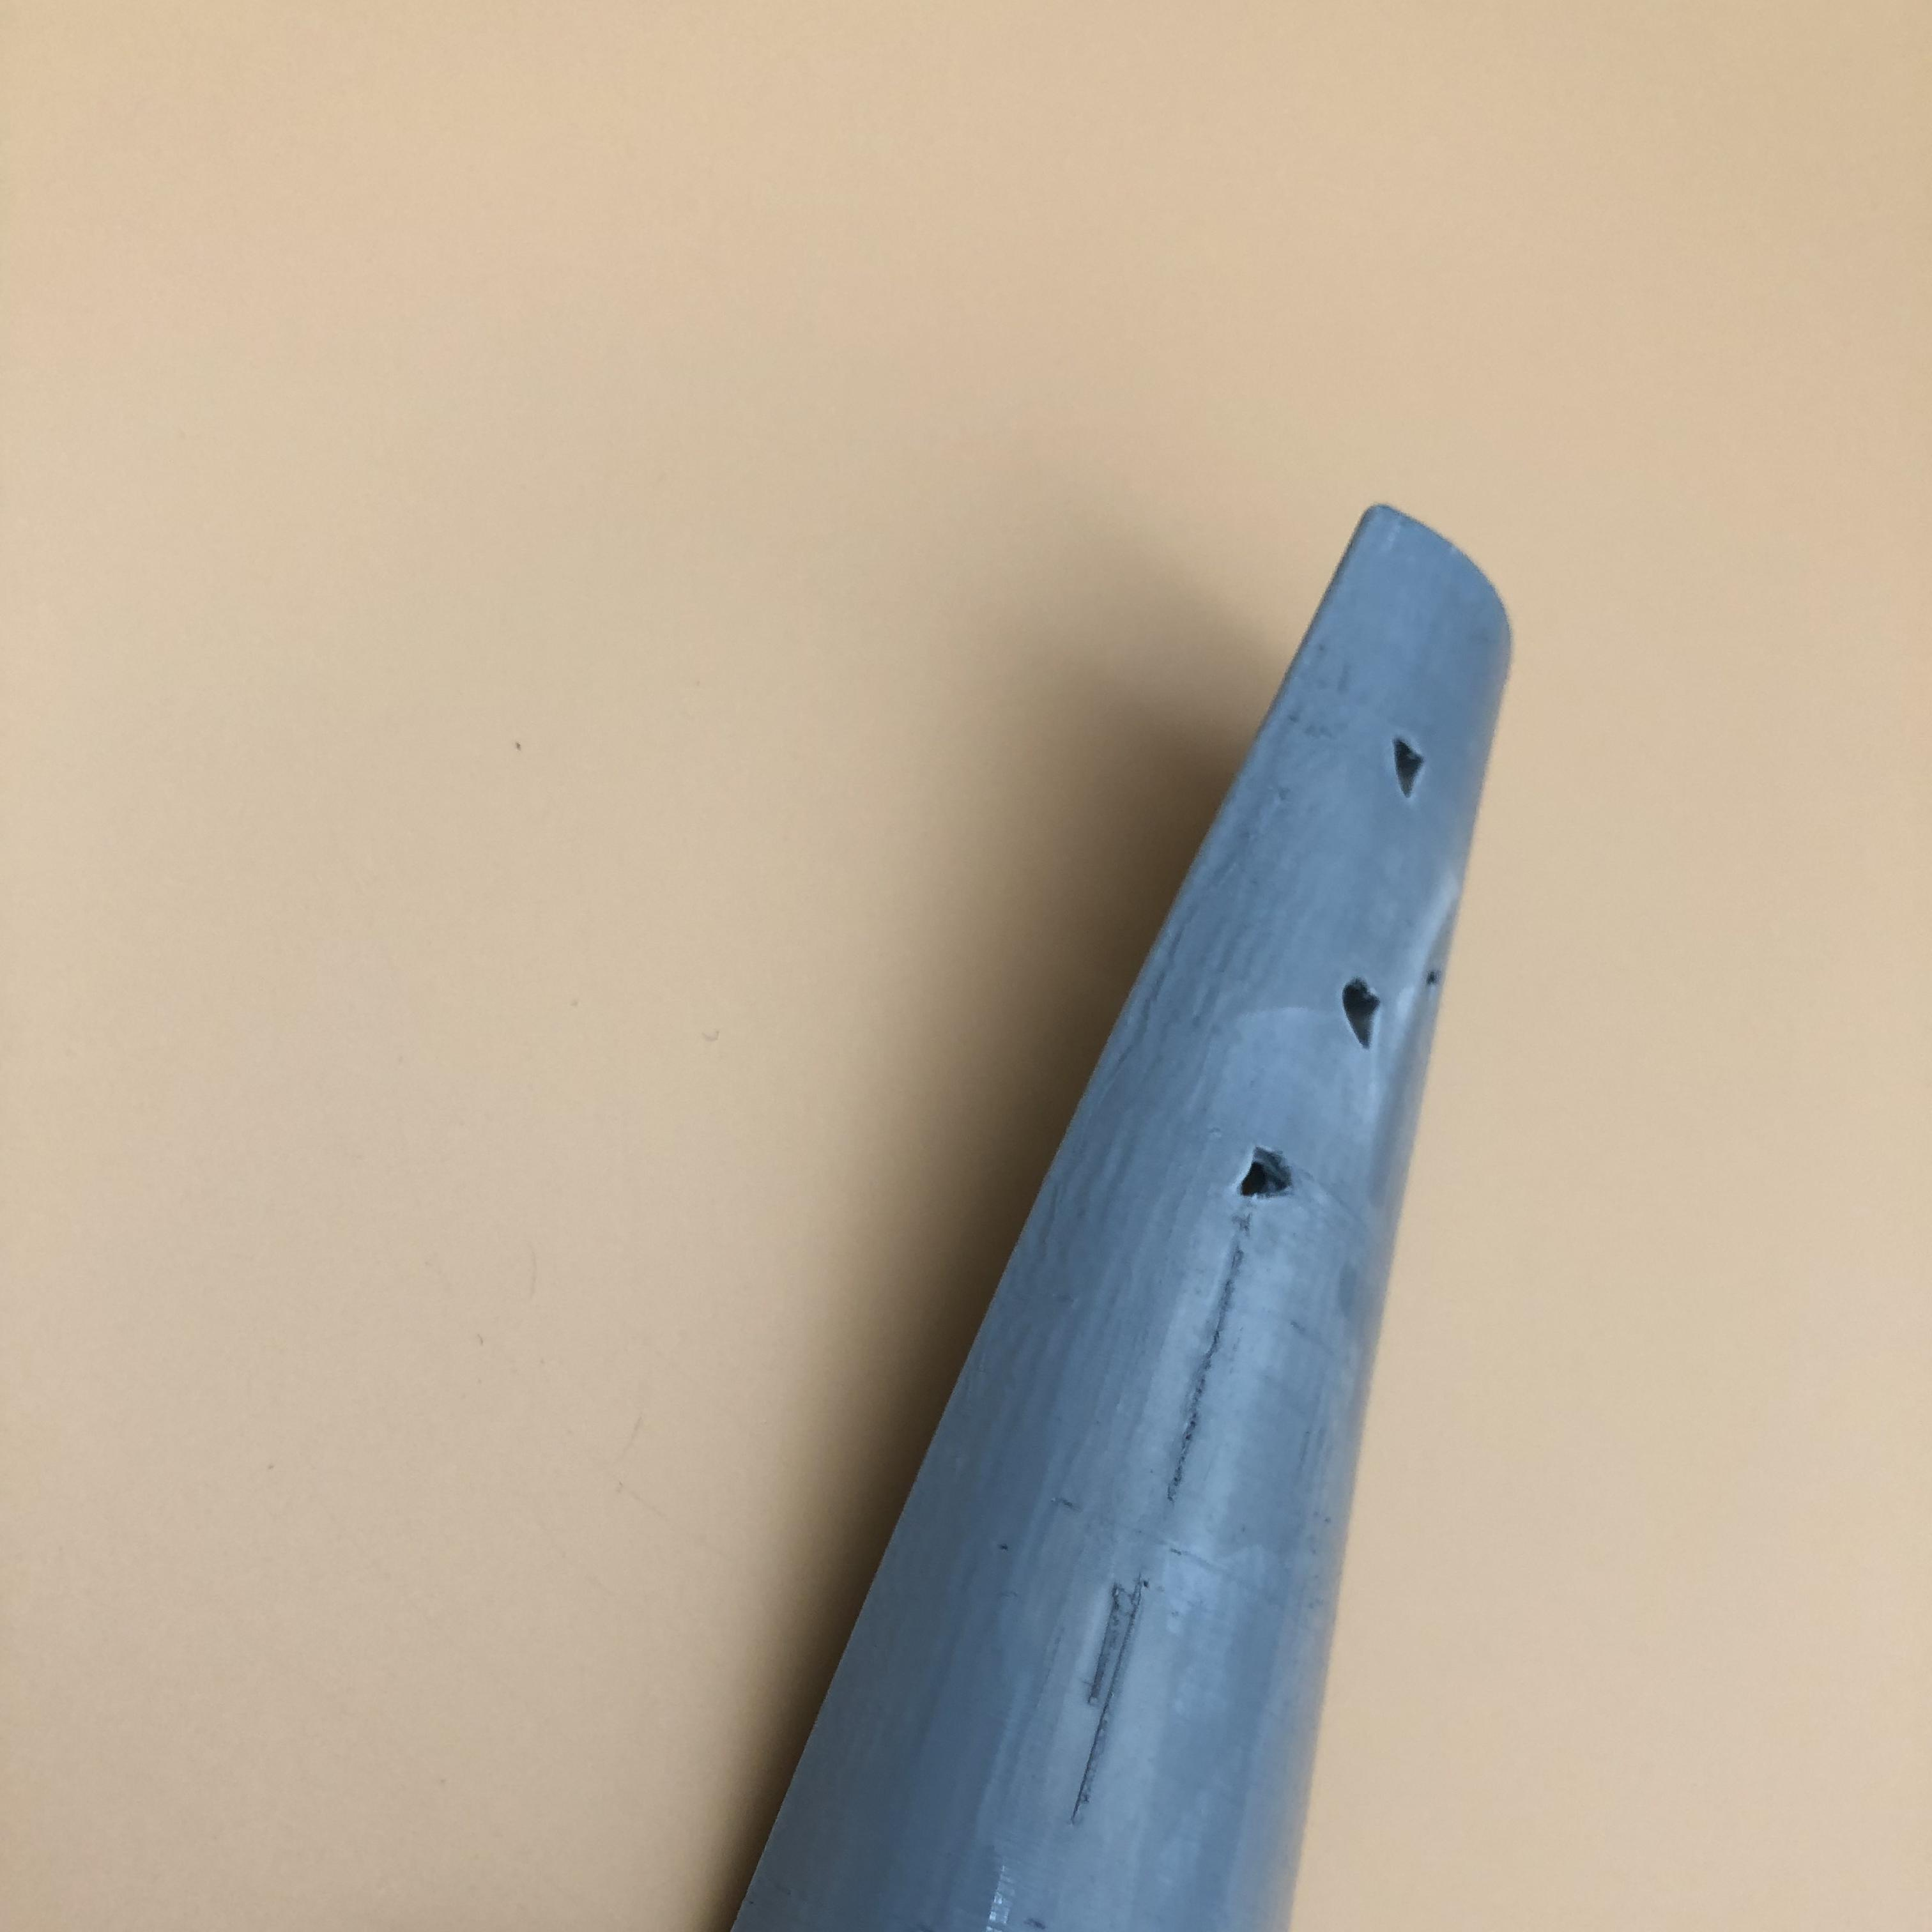breakdown: (1385, 706, 1447, 800), (1334, 966, 1398, 1056), (1230, 1145, 1304, 1203)
